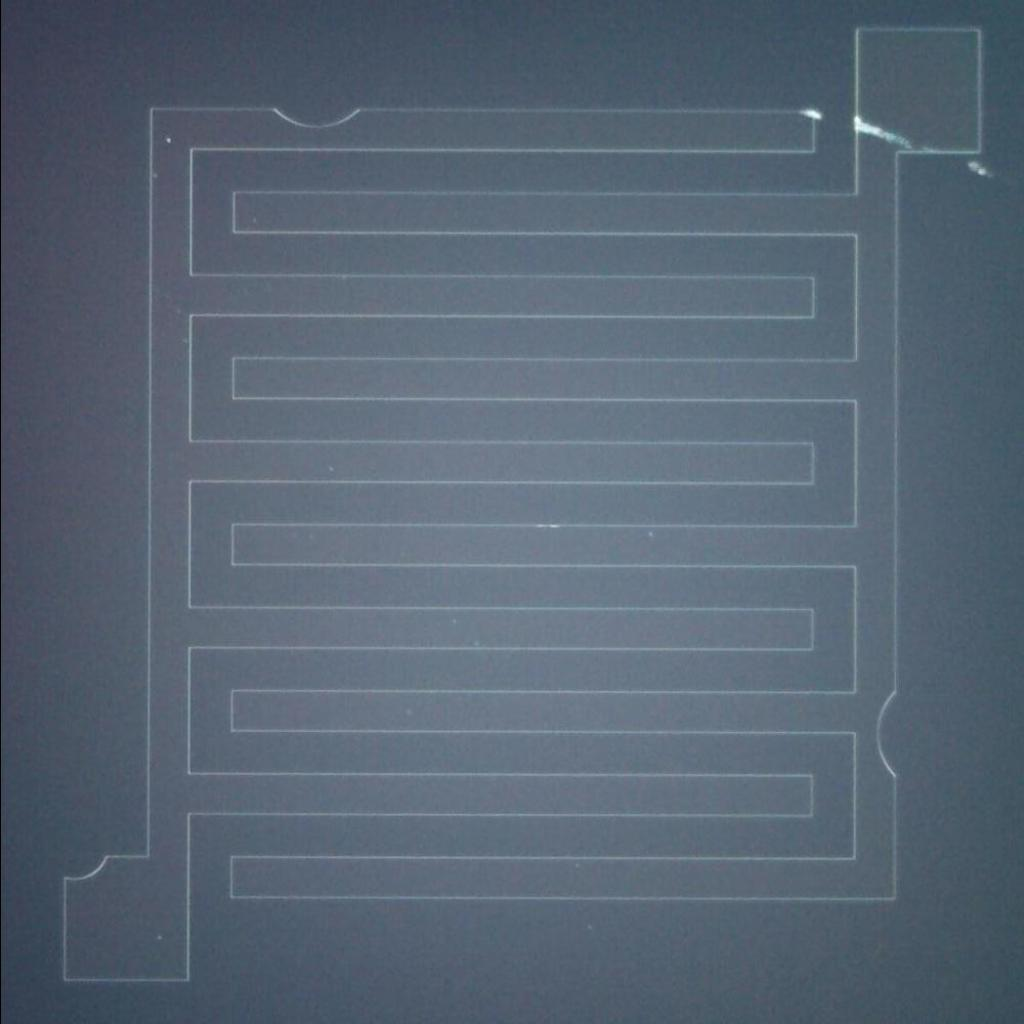curve circuit: (868, 670, 908, 794), (256, 93, 368, 137), (52, 835, 123, 901)
dot: (152, 127, 180, 152)
scratch: (849, 115, 914, 152)
